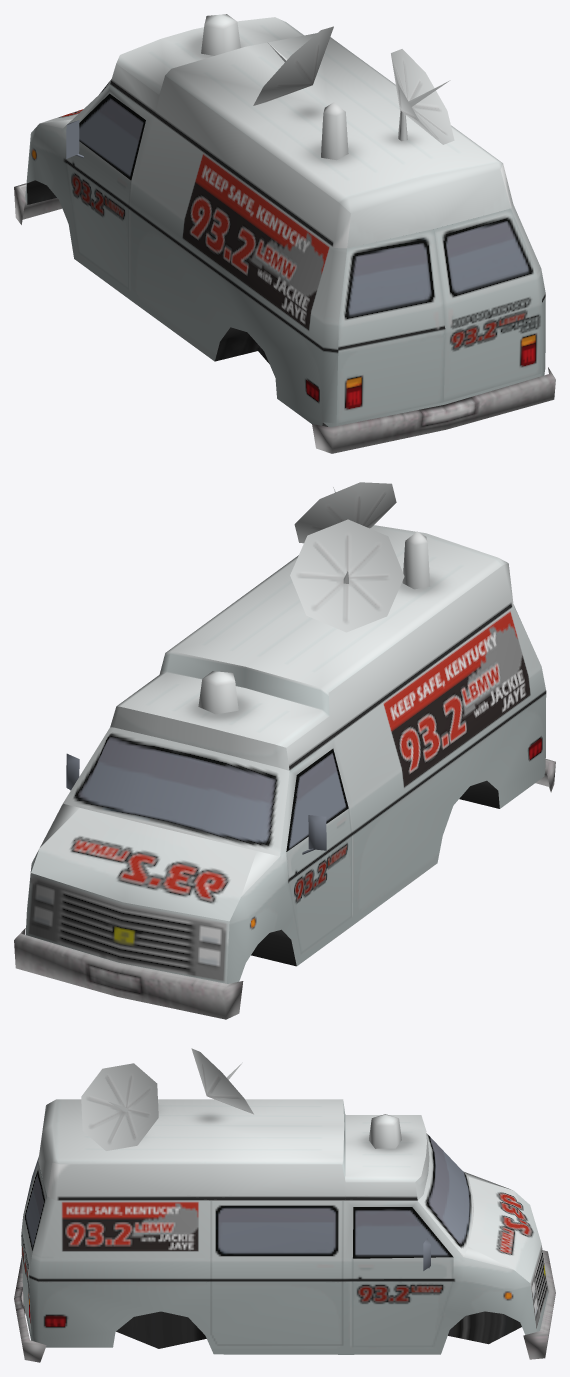
File: Vehicles_VanRadio.FBX
3 renders of one model, top to bottom at view 1: azimuth 30°, elevation 25°; view 2: azimuth 150°, elevation 25°; view 3: azimuth 270°, elevation 25°, orthographic. The views are drawn at different scales.
Parts seen in each view (by area): view 1: Vehicles_VanRadio; view 2: Vehicles_VanRadio; view 3: Vehicles_VanRadio.
Boxes of the visible parts, <box> form: Vehicles_VanRadio: <box>14,14,555,453</box>; Vehicles_VanRadio: <box>14,482,555,1019</box>; Vehicles_VanRadio: <box>14,1048,555,1362</box>.
Bounding box in the file's own units: 105 × 127 × 235.
1 material, 1 textured.
